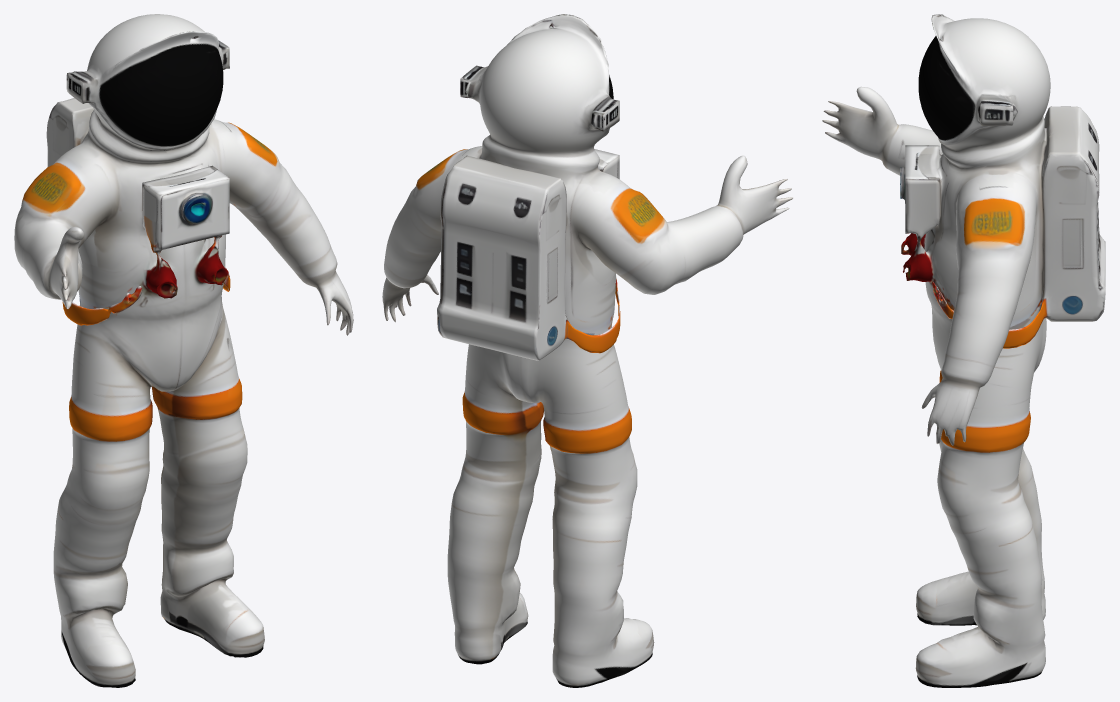
The model's file is astronaut.gltf.
The picture shows the model from 3 angles, left to right: view 1: azimuth 30°, elevation 25°; view 2: azimuth 150°, elevation 25°; view 3: azimuth 270°, elevation 25°; orthographic projection. The views are drawn at different scales.
Parts seen in each view (by area): view 1: Object_2; view 2: Object_2; view 3: Object_2.
Boxes of the visible parts, x1,y1,x2,y2 form: Object_2: (14,14,353,687); Object_2: (382,14,792,687); Object_2: (822,14,1105,687).
Bounding box in the file's own units: 1.09 × 1.9 × 0.7774.
1 material, 1 textured.
